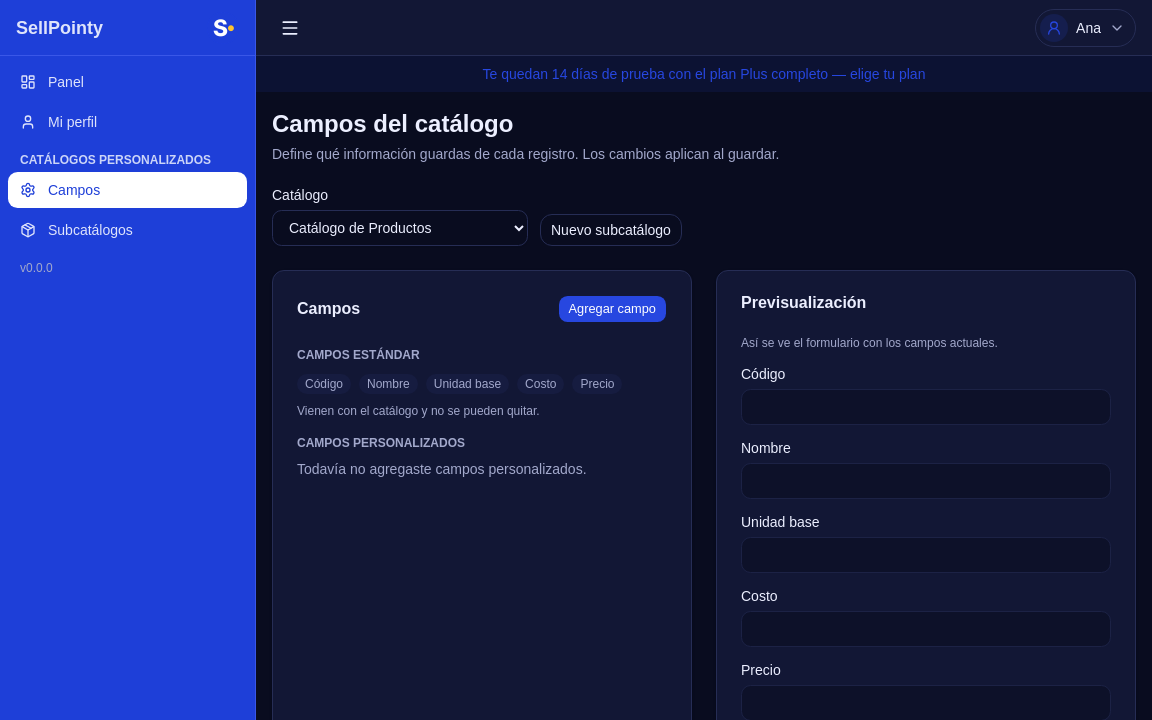
Test: Renombrar el catálogo (F2-SCHEMA) › si el servidor lo rechaza, el error se VE y el formulario sigue abierto
The width and height of the screenshot is (1152, 720).
Select "Unidad de Medida" in the dropdown: (400, 228) [272,210,528,246]
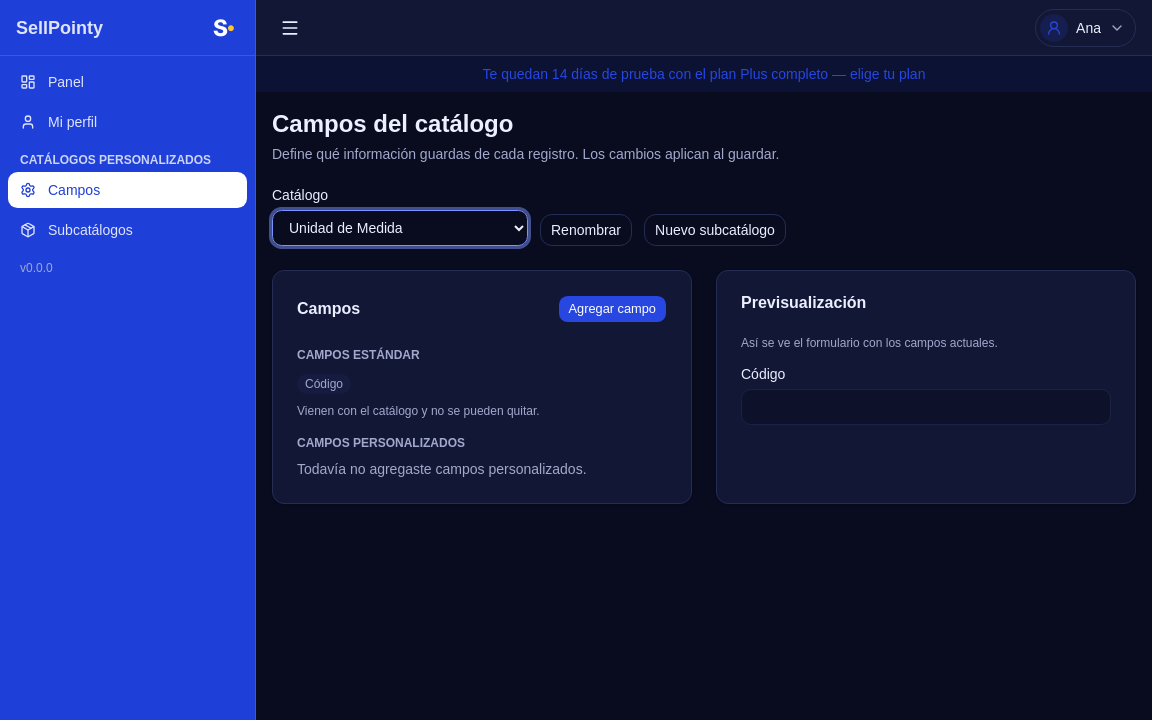
Click the button "Renombrar": (586, 230) [540,214,632,246]
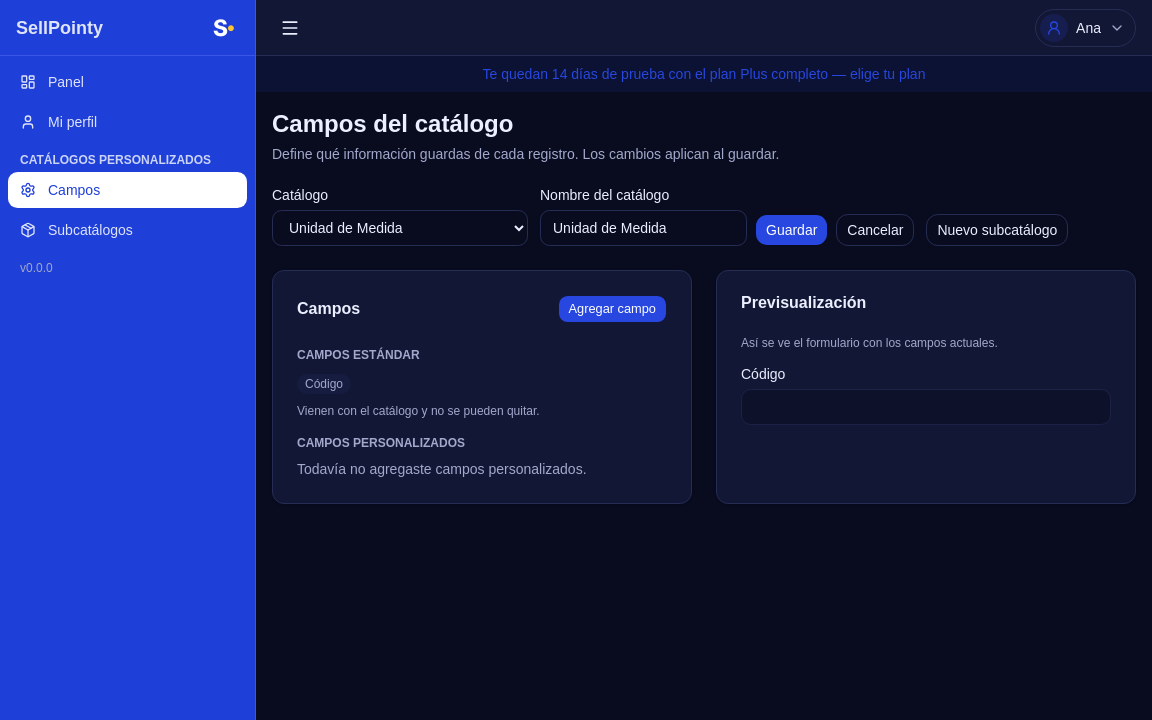
Replace the text in the field labelled "Nombre del catálogo" with "Otro": (644, 228) [540,210,747,246]
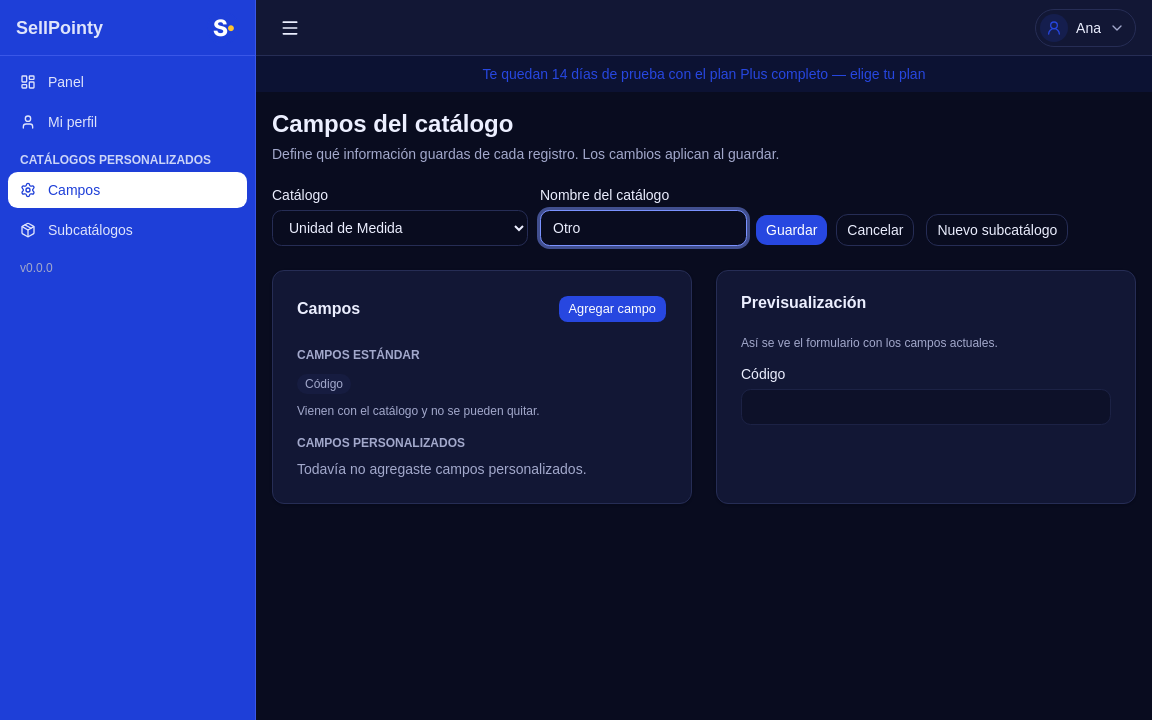
Click the button "Guardar": (792, 230) [755,214,828,246]
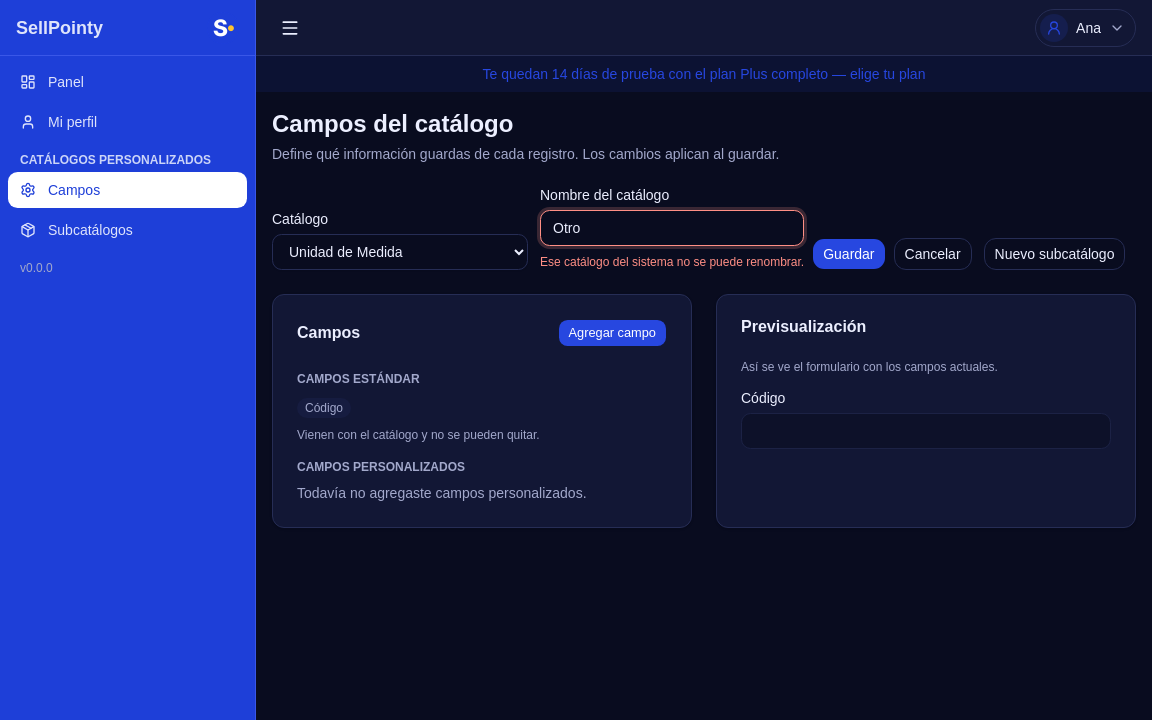
Check: the text "Ese catálogo del sistema no se puede renombrar." is shown, box [540,254,804,270]
